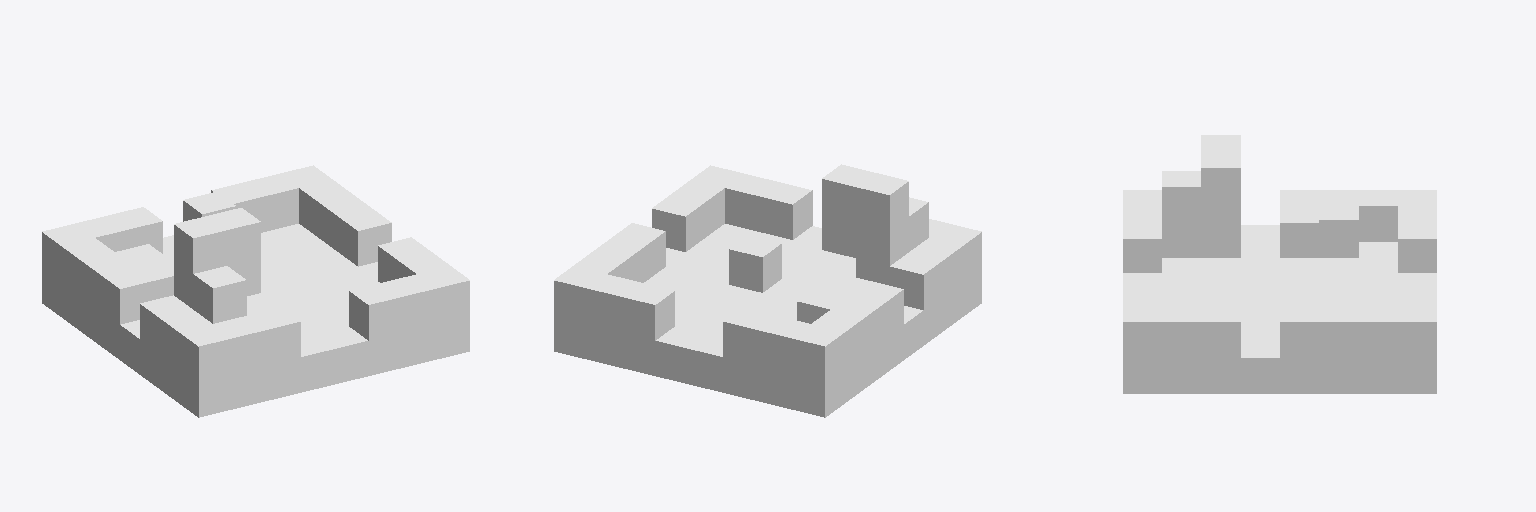
Rendered from GreenCorall8.obj.
3 views of the same model, side by side, from view 1: azimuth 30°, elevation 25°; view 2: azimuth 150°, elevation 25°; view 3: azimuth 270°, elevation 25° (orthographic).
Visible parts, largest first — view 1: object 1; view 2: object 1; view 3: object 1.
Part boxes in pixels (x1,y1,x2,y2): object 1: (42, 165, 469, 417); object 1: (554, 164, 981, 417); object 1: (1123, 135, 1436, 393).
Size of the model in its own units: 0.8 by 0.4 by 0.8.